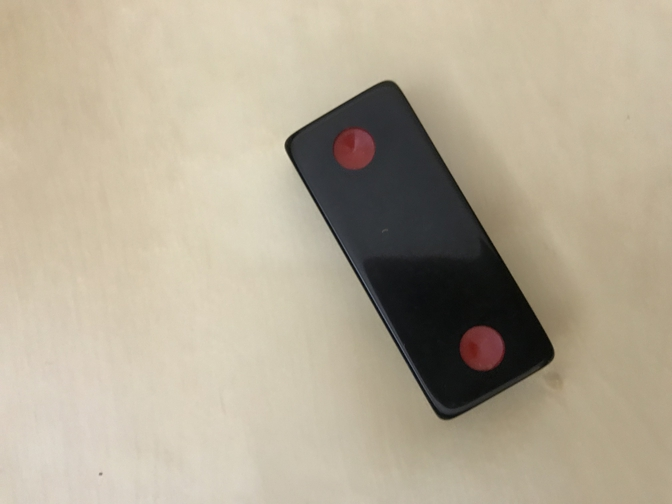earth: (283, 80, 555, 420)
